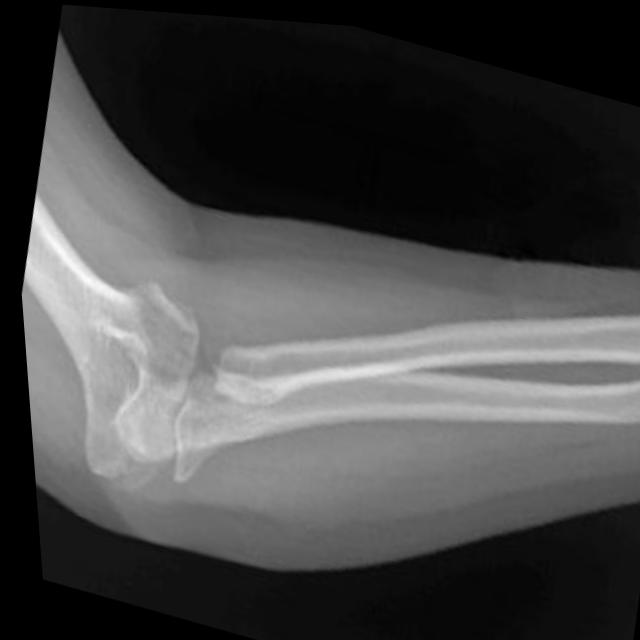fracture: (152, 281, 252, 428)
